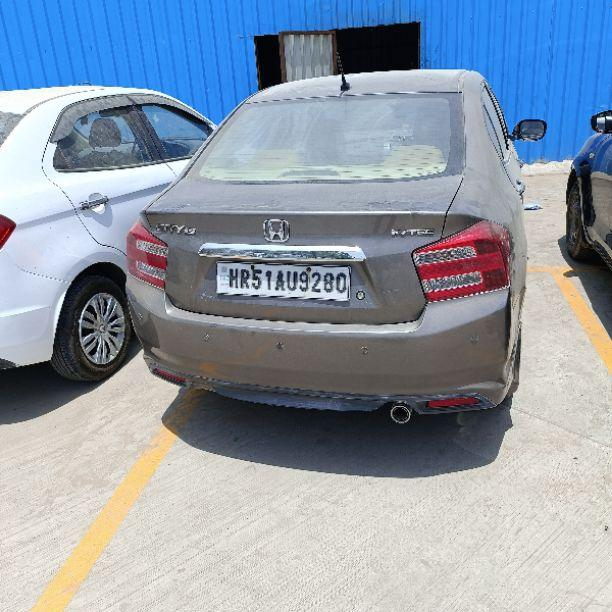license_plate: (214, 259, 351, 302)
